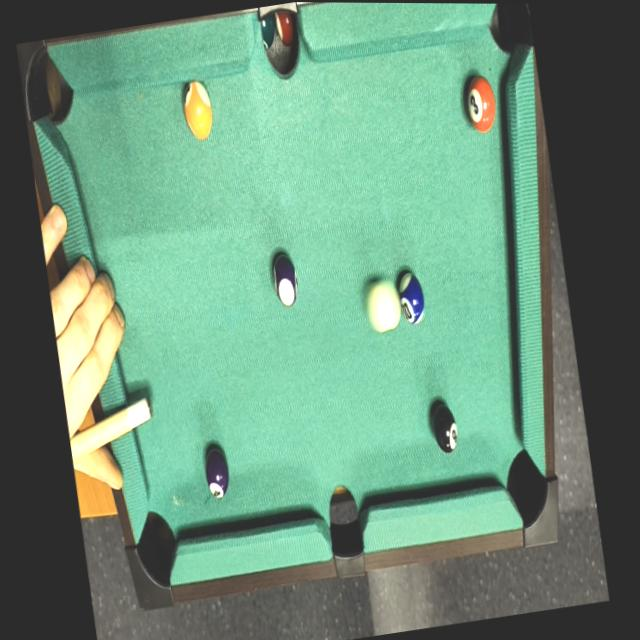cue ball: (361, 277, 410, 339)
other: (178, 80, 219, 145), (461, 70, 502, 134), (266, 248, 305, 312), (394, 268, 430, 328), (200, 444, 235, 503), (428, 402, 463, 457)
